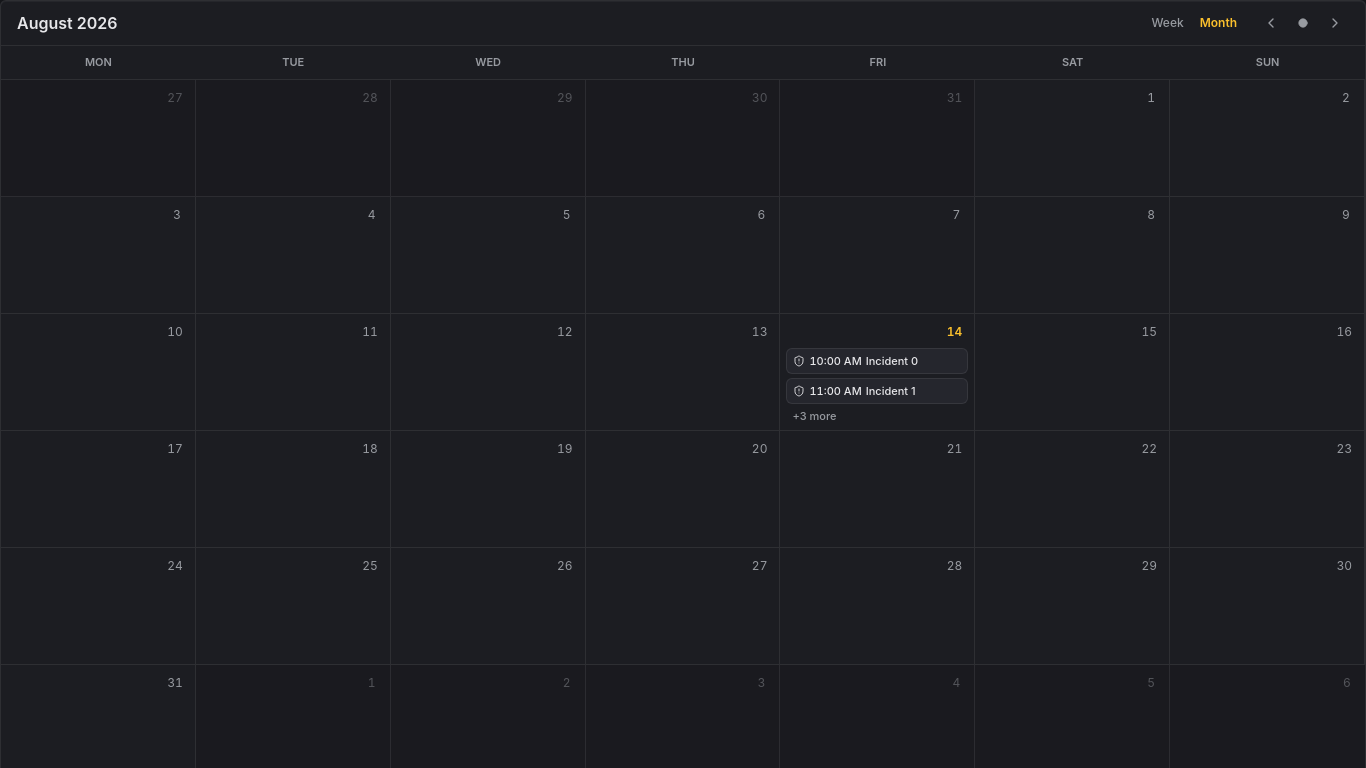
OperationsCalendar › keeps busy days compact until their remaining events are requested
Check: the number of links named "Incident: Incident" is 2, box [786,348,968,374]; [786,378,968,404]
Click the button "+3 more" at [877, 416], box [786,408,968,424]
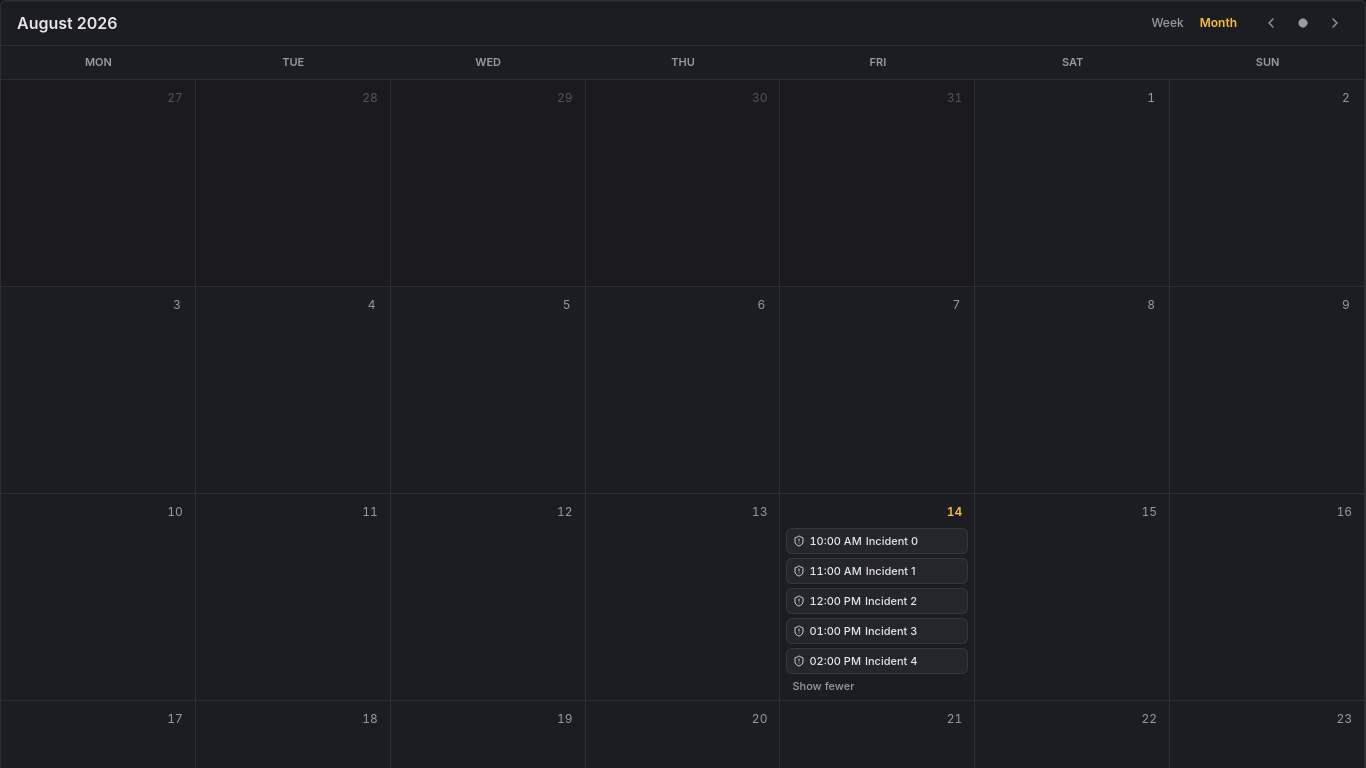
Check: the number of links named "Incident: Incident" is 5, box [786,528,968,554]; [786,558,968,584]; [786,588,968,614]; [786,618,968,644]; [786,648,968,674]
Check: the button "Show fewer" is shown, box [786,678,968,694]
